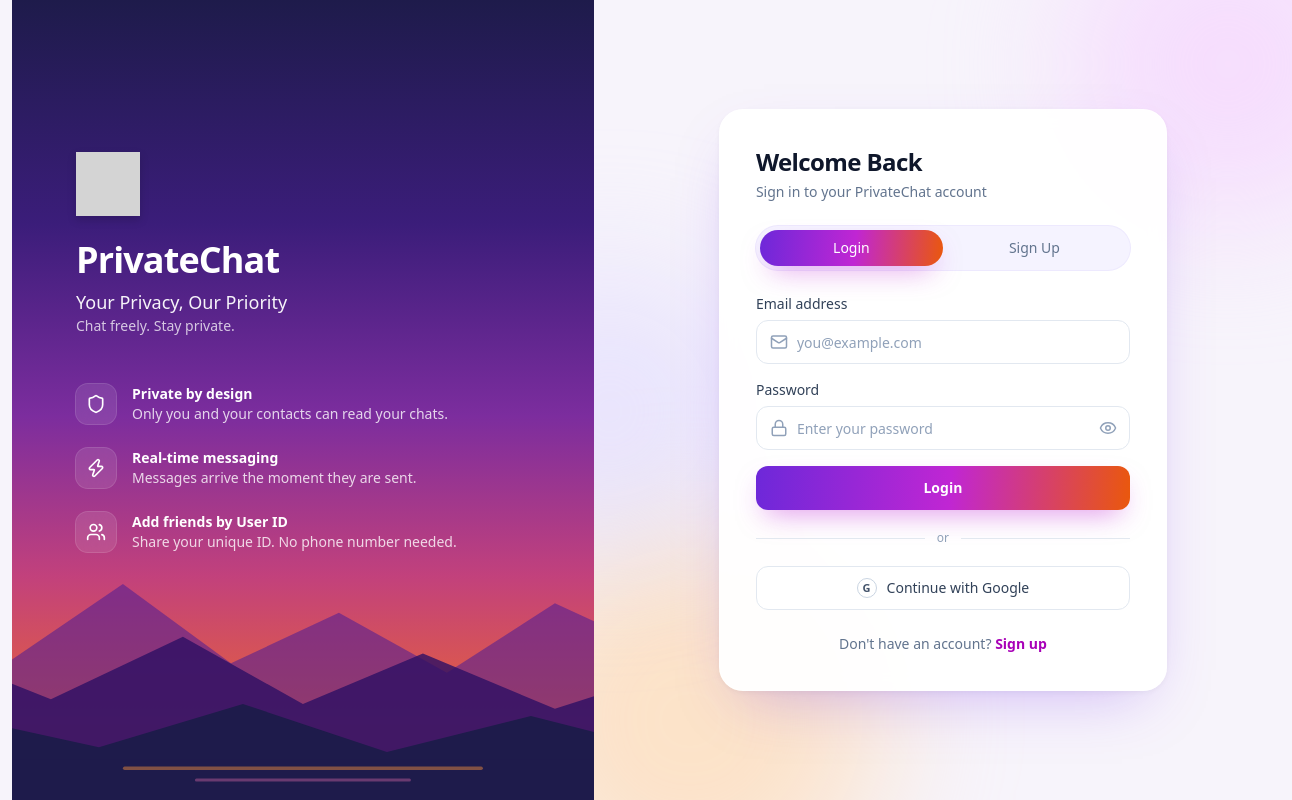
it: login page › rejects a malformed email
In the field labelled "Email address": (943, 342) [756,320,1130,364], type "not-an-email"
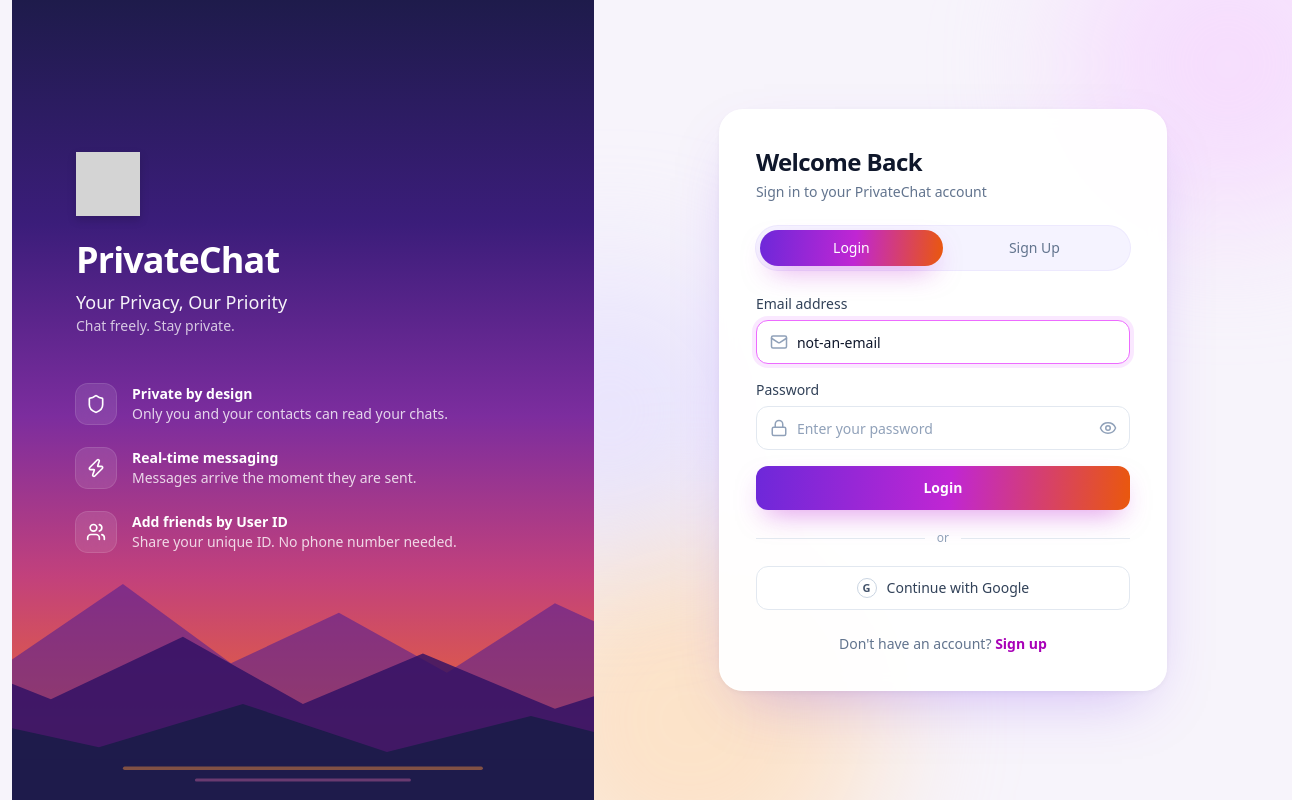
In the password field labelled "Password": (943, 428) [756,406,1130,450], type "whatever1"
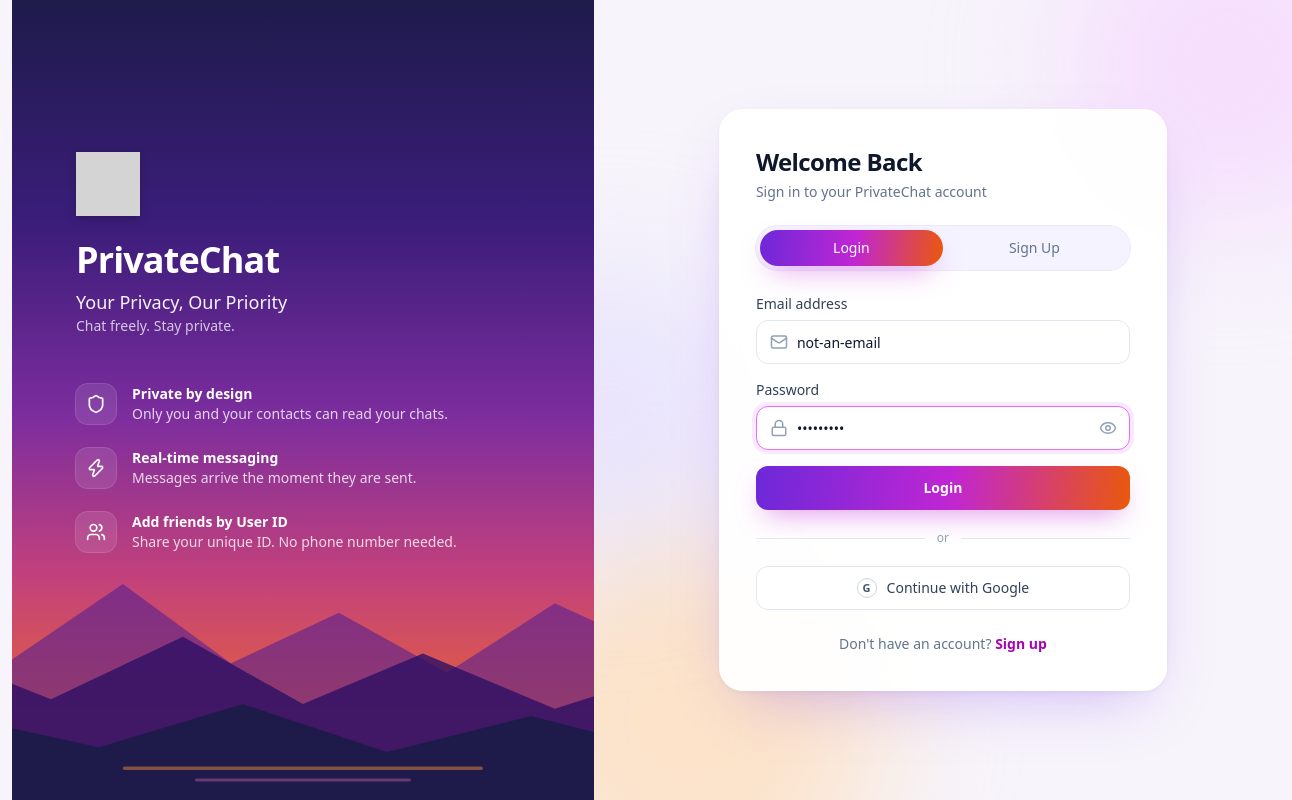
Click the button "Login": (943, 488) [756,466,1130,510]
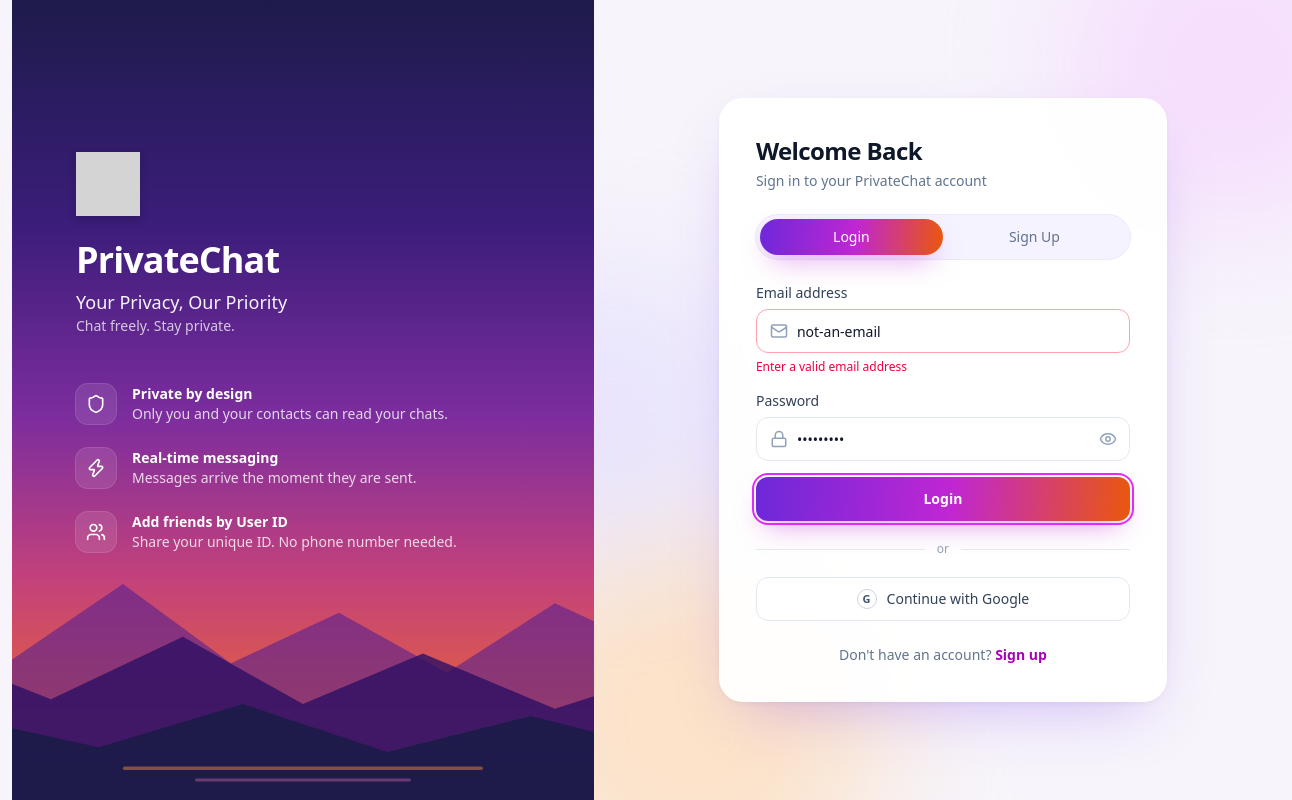
Expected: the text "Enter a valid email address" is shown, [756,358,907,375]
